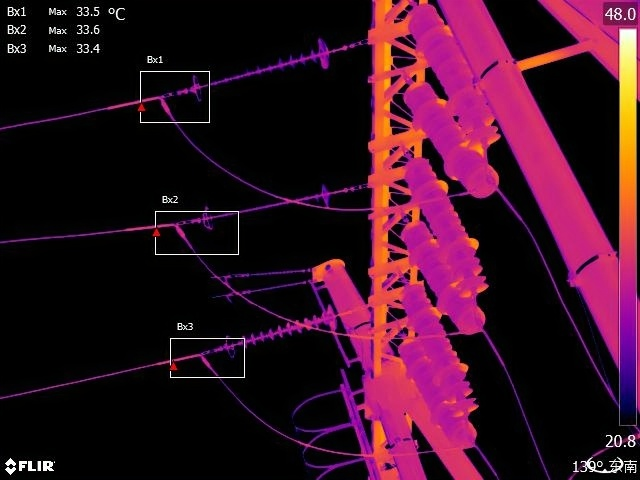clamp: (192, 341, 221, 374), (151, 86, 176, 118), (167, 215, 192, 245)
insulator: (400, 1, 501, 151), (397, 271, 485, 415), (404, 84, 505, 208), (187, 34, 334, 111), (403, 214, 492, 341), (406, 152, 489, 285), (396, 330, 471, 443), (198, 181, 332, 233), (222, 308, 327, 354)
